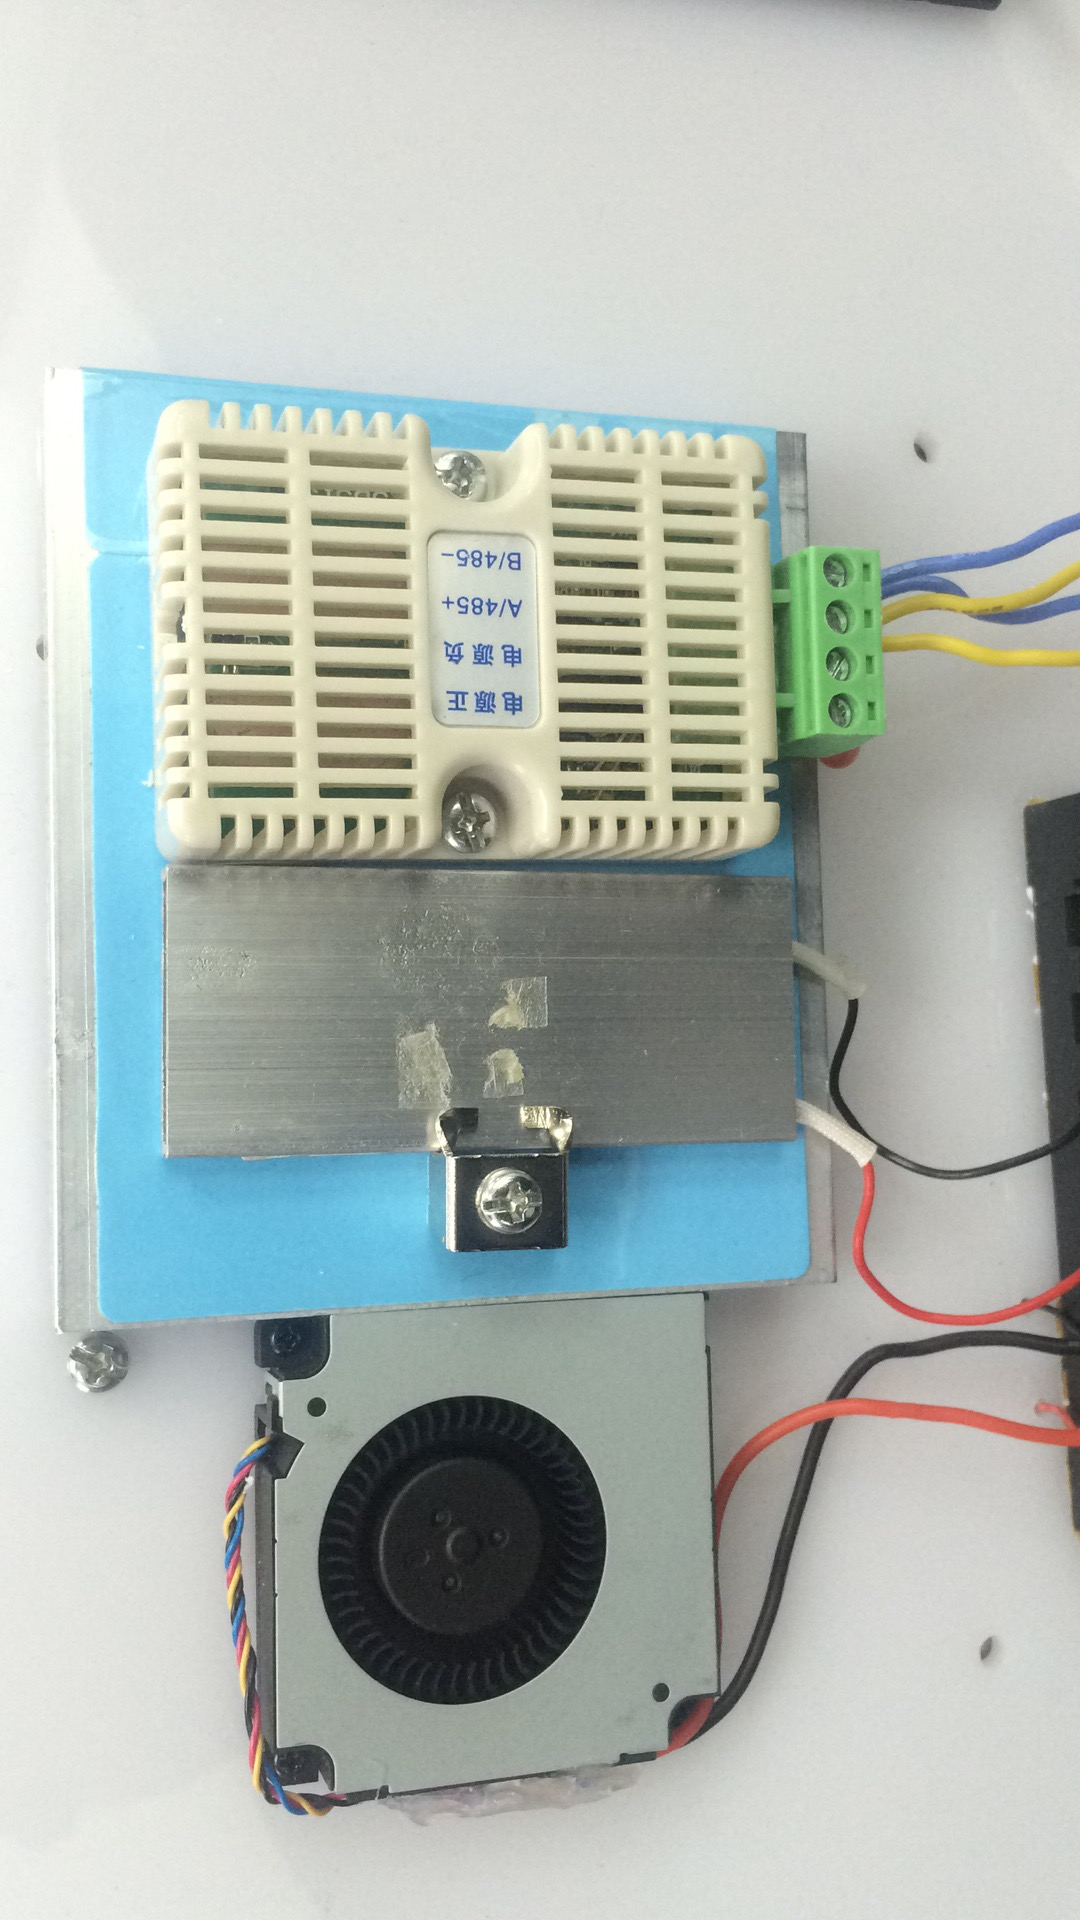fan: (261, 1316, 752, 1811)
heater: (142, 856, 815, 1154)
temperature: (141, 390, 795, 864)
